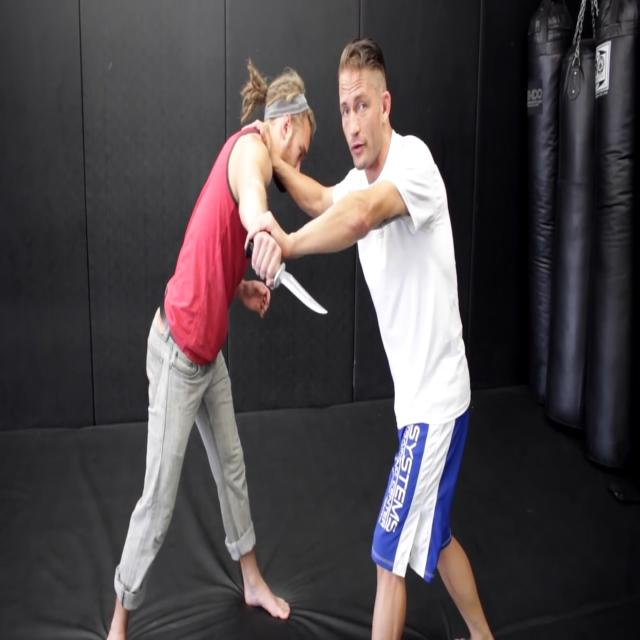knife: (275, 266, 333, 323)
